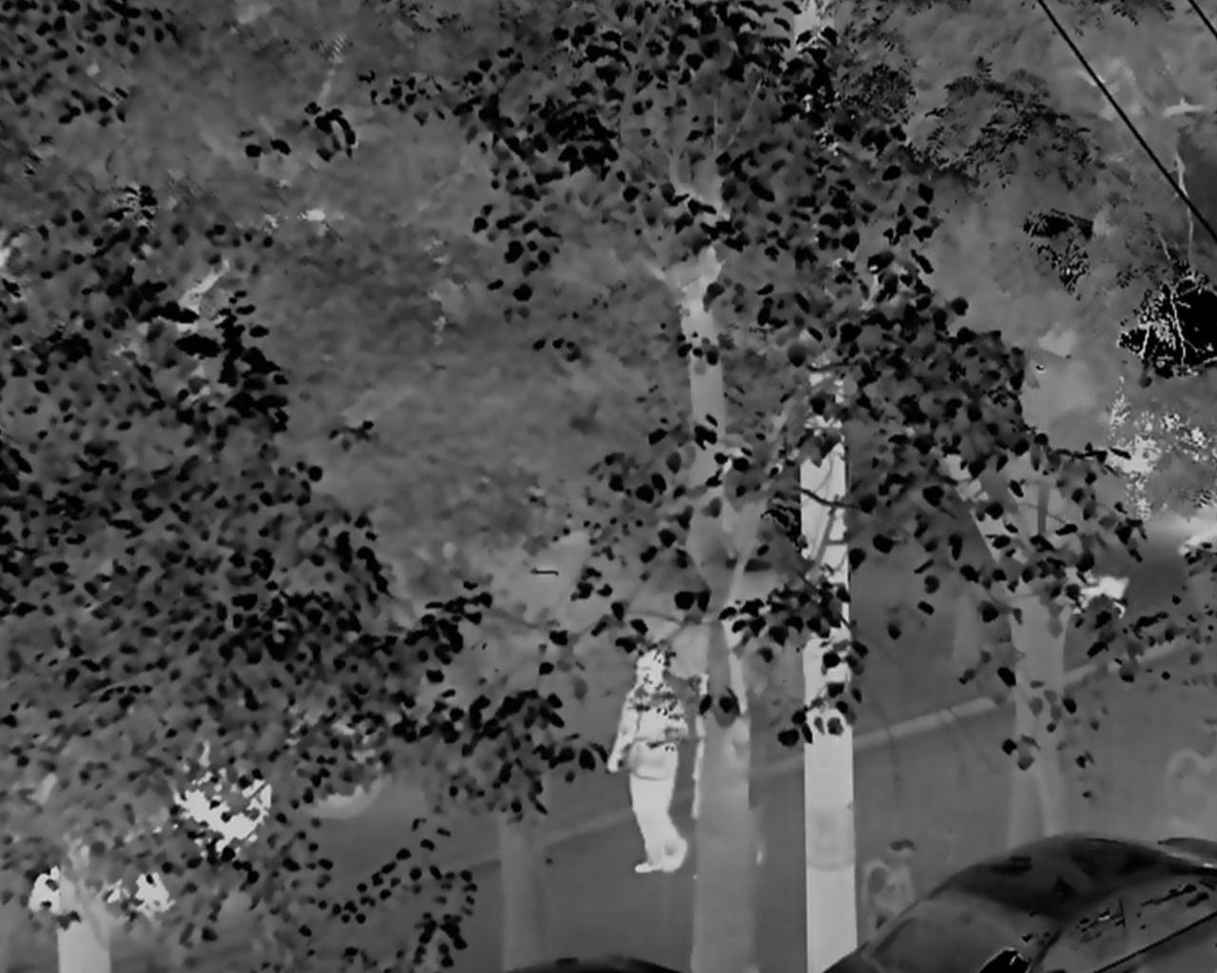person: (616, 647, 693, 878)
